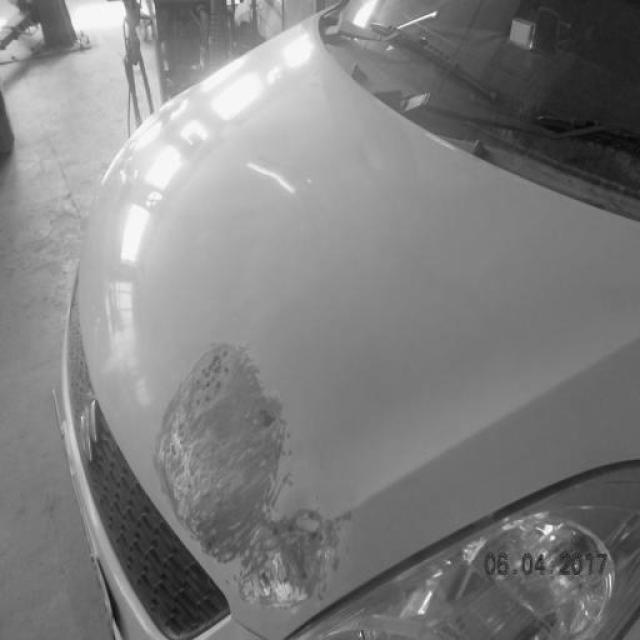car damage: (146, 342, 343, 620)
